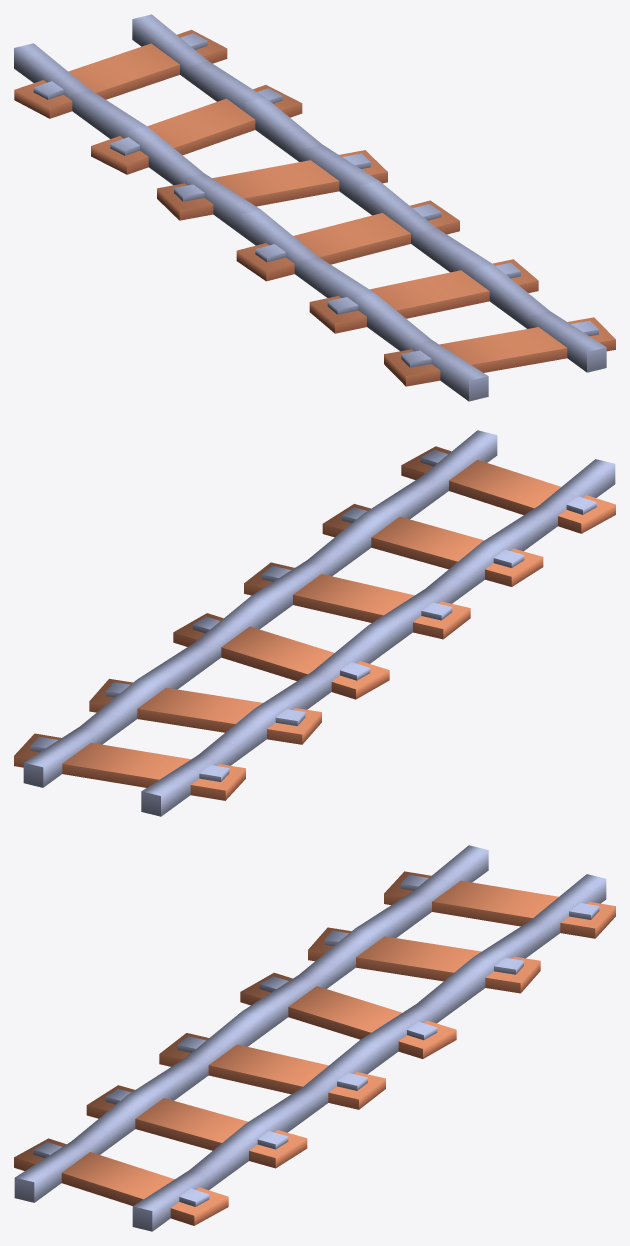
File: railroad-damaged-straight.glb
The picture shows the model from 3 angles, top to bottom: view 1: azimuth 30°, elevation 25°; view 2: azimuth 150°, elevation 25°; view 3: azimuth 330°, elevation 25°; orthographic projection.
Parts seen in each view (by area): view 1: railroad-damaged-straight; view 2: railroad-damaged-straight; view 3: railroad-damaged-straight.
Boxes of the visible parts, x1=… form: railroad-damaged-straight: x1=14, y1=14, x2=615, y2=401; railroad-damaged-straight: x1=14, y1=430, x2=615, y2=816; railroad-damaged-straight: x1=14, y1=845, x2=615, y2=1231.
Size of the model in its own units: 1.03 by 0.1001 by 4.
1 material, 1 textured.
